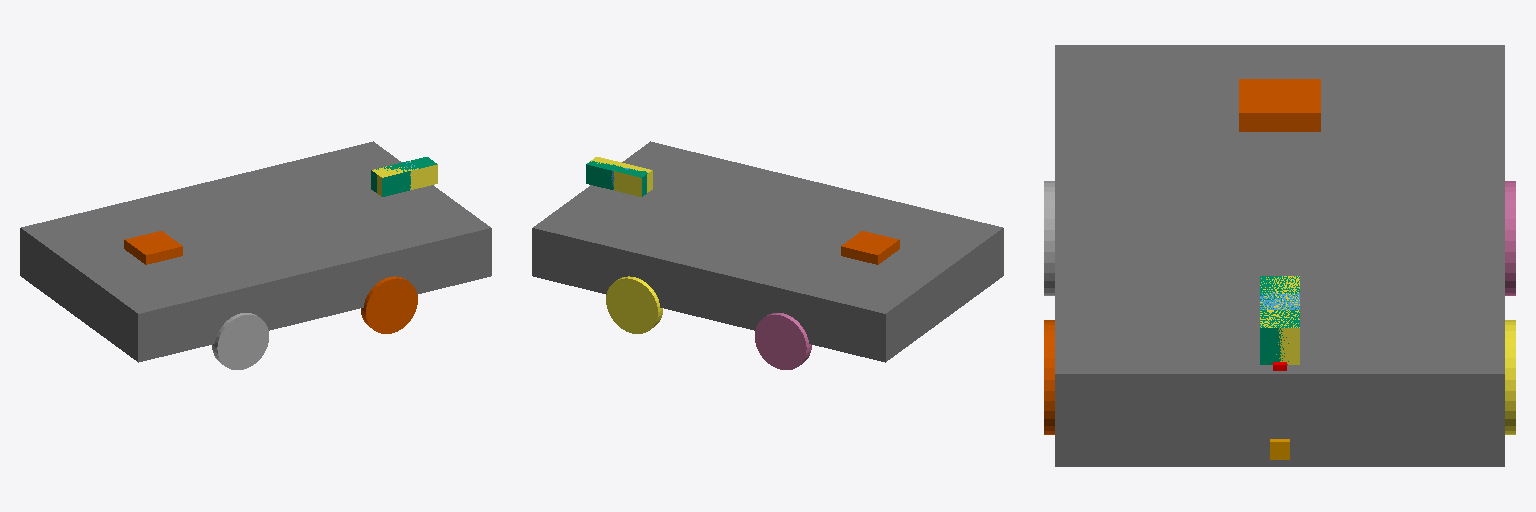
URDF robot description (hamma_bot):
<?xml version="1.0"?>
  <robot name="hamma_bot"
  xmlns:xacro="http://ros.org/wiki/xacro">


  <link name="base_link">  
    <visual>
      <origin xyz="0 0 0" rpy="0 0 0"/>
      <geometry>
        <box size="3.8 2.2 0.5"/>
      </geometry>
      <material name="gray">
        <color rgba="0.5 0.5 0.5 1"/>
      </material>
    </visual>
    <collision>
      <origin xyz="0 0 0" rpy="0 0 0"/>
      <geometry>
        <box size="3.8 2.2 0.5"/>
      </geometry>
    </collision>
    <inertial>
      <mass value="10"/>
      <inertia ixx="1" iyy="1" izz="1" ixy="0" ixz="0" iyz="0"/>
    </inertial>
  </link>


<joint name="base_footprint_joint" type="fixed">
  <parent link="base_link"/>
  <child link="base_footprint"/>
  <origin xyz="0 0 -0.53" rpy="0 0 0"/>
</joint>

<link name="base_footprint">
</link>


  <!-- FRONT LEFT steering -->
  <link name="steer_link_fl">
    <inertial>
      <origin xyz="0 0 0" rpy="0 0 0"/>
      <mass value="0.1"/>
      <inertia ixx="0.0001" ixy="0.0" ixz="0.0" iyy="0.0001" iyz="0.0" izz="0.0001"/>
    </inertial>
  </link>
  
  <joint name="front_left_steering_joint" type="revolute">
    <parent link="base_link"/>
    <child link="steer_link_fl"/>
    <origin xyz="0.8 1.1 -0.28" rpy="0 0 0"/>
    <axis xyz="0 0 1"/>
    <limit lower="-0.6" upper="0.6" effort="10" velocity="1"/>
  </joint>

  <link name="wheel_fl">
    <visual>
      <geometry>
        <cylinder radius="0.28" length="0.1"/>
      </geometry>
    </visual>
    <collision>
      <geometry>
        <cylinder radius="0.28" length="0.1"/>
      </geometry>
    </collision>
    <inertial>
      <mass value="1"/>
      <inertia ixx="0.1" iyy="0.1" izz="0.1" ixy="0" ixz="0" iyz="0"/>
    </inertial>
  </link>

  <joint name="front_left_wheel_joint" type="continuous">
    <parent link="steer_link_fl"/>
    <child link="wheel_fl"/>
    <origin xyz="0 0 0" rpy="1.5708 0 0"/>
    <axis xyz="0 0 -1"/>
  </joint>

  <!-- FRONT RIGHT steering -->
  <link name="steer_link_fr">
    <inertial>
    <origin xyz="0 0 0" rpy="0 0 0"/>
    <mass value="0.1"/>
    <inertia
      ixx="0.0001" ixy="0.0" ixz="0.0"
      iyy="0.0001" iyz="0.0"
      izz="0.0001"/>
    </inertial>
  </link>

  <joint name="front_right_steering_joint" type="revolute">
    <parent link="base_link"/>
    <child link="steer_link_fr"/>
    <origin xyz="0.8 -1.1 -0.28" rpy="0 0 0"/>
    <axis xyz="0 0 1"/>
    <limit lower="-0.6" upper="0.6" effort="10" velocity="1"/>
  </joint>

  <link name="wheel_fr">
    <visual>
      <geometry>
        <cylinder radius="0.28" length="0.1"/>
      </geometry>
    </visual>
    <collision>
      <geometry>
        <cylinder radius="0.28" length="0.1"/>
      </geometry>
    </collision>
    <inertial>
      <mass value="1"/>
      <inertia ixx="0.1" iyy="0.1" izz="0.1" ixy="0" ixz="0" iyz="0"/>
    </inertial>
  </link>

  <joint name="front_right_wheel_joint" type="continuous">
    <parent link="steer_link_fr"/>
    <child link="wheel_fr"/>
    <origin xyz="0 0 0" rpy="1.5708 0 0"/>
    <axis xyz="0 0 -1"/>
  </joint>

  <!-- REAR LEFT -->
  <link name="wheel_rl">
    <visual>
      <geometry>
        <cylinder radius="0.28" length="0.1"/>
      </geometry>
    </visual>
    <collision>
      <geometry>
        <cylinder radius="0.28" length="0.1"/>
      </geometry>
    </collision>
    <inertial>
      <mass value="1"/>
      <inertia ixx="0.1" iyy="0.1" izz="0.1" ixy="0" ixz="0" iyz="0"/>
    </inertial>
  </link>
  
  <joint name="rear_left_wheel_joint" type="continuous">
    <parent link="base_link"/>
    <child link="wheel_rl"/>
    <origin xyz="-0.8 1.1 -0.28" rpy="1.5708 0 0"/>
    <axis xyz="0 0 -1"/>
  </joint>


  <!-- REAR RIGHT -->
  <link name="wheel_rr">
    <visual>
      <geometry>
        <cylinder radius="0.28" length="0.1"/>
      </geometry>
    </visual>
    <collision>
      <geometry>
        <cylinder radius="0.28" length="0.1"/>
      </geometry>
    </collision>
    <inertial>
      <mass value="1"/>
      <inertia ixx="0.1" iyy="0.1" izz="0.1" ixy="0" ixz="0" iyz="0"/>
    </inertial>
  </link>

  <joint name="rear_right_wheel_joint" type="continuous">
    <parent link="base_link"/>
    <child link="wheel_rr"/>
    <origin xyz="-0.8 -1.1 -0.28" rpy="1.5708 0 0"/>
    <axis xyz="0 0 -1"/>
  </joint>

  <!-- Sensors -->

  <!-- Lidar -->

  <link name="lidar_link">
    <visual>
      <geometry>
        <box size="0.1 0.1 0.1"/>
      </geometry>
    </visual>
  </link>

  <joint name="base_link_to_lidar" type="fixed">
    <parent link="base_link"/>
    <child link="lidar_link"/>
    <origin xyz="1.88 0 -0.15" rpy="0 0 0"/>
  </joint>

  <!-- Camera Frame -->

  <link name="camera_frame">
    <visual>
      <geometry>
        <box size="0.2 0.2 0.2"/>
      </geometry>
    </visual>
  </link>

  <joint name="base_link_to_camera_frame" type="fixed">
    <parent link="base_link"/>
    <child link="camera_frame"/>
    <origin xyz="1.6 0 0.4" rpy="0 0 0"/>
  </joint>

  <!-- Camera -->
  <link name="camera_link_right">
    <visual>
      <geometry>
        <box size="0.2 0.6 0.2"/>
      </geometry>
    </visual>
  </link>

  <joint name="camera_joint_right" type="fixed">
    <parent link="base_link"/>
    <child link="camera_link_right"/>
    <origin xyz="1.6 0 0.4" rpy="0 0 1.5708"/>
  </joint>

  <link name="camera_link_left">
    <visual>
      <geometry>
        <box size="0.2 0.6 0.2"/>
      </geometry>
    </visual>
  </link>

  <joint name="camera_joint_left" type="fixed">
    <parent link="base_link"/>
    <child link="camera_link_left"/>
    <origin xyz="1.6 0 0.4" rpy="0 0 -1.5708"/>
  </joint>

  <!-- Top Camera Link (front of robot, pointing forward) -->
  <link name="camera_front_link">
    <visual>
      <geometry>
        <box size="0.07 0.07 0.03"/>
      </geometry>
      <material name="red">
        <color rgba="1 0 0 1"/>
      </material>
    </visual>
  </link>

  <joint name="camera_top_joint" type="fixed">
    <parent link="base_link"/>
    <child link="camera_front_link"/>
    <origin xyz="1.9 0 0.3" rpy="0 0 0"/>
  </joint>

  <!-- IMU -->

  <link name="imu_link">
    <visual>
      <geometry>
        <box size="0.4 0.4 0.3"/>
      </geometry>
    </visual>
  </link>

  <joint name="base_link_to_imu" type="fixed">
    <parent link="base_link"/>
    <child link="imu_link"/>
    <origin xyz="-1.1 0 0.2" rpy="0 0 0"/>
  </joint>

  <!-- Gazebo Plugins -->

  <plugin name='ignition::gazebo::systems::Physics' filename='ignition-gazebo-physics-system'/>
  <plugin name='ignition::gazebo::systems::UserCommands' filename='ignition-gazebo-user-commands-system'/>
  <plugin name='ignition::gazebo::systems::SceneBroadcaster' filename='ignition-gazebo-scene-broadcaster-system'/>
  <plugin filename="ignition-gazebo-sensors-system" name="ignition::gazebo::systems::Sensors">
    <render_engine>ogre2</render_engine>
  </plugin>
    
  <gui>
    <camera name='gzclient_camera'>
      <pose>-5.73 3.76 8.10 0 1.1316 -0.4398</pose>
    </camera>
  </gui>

  <gazebo reference="camera_link_right">
    <sensor name="robot_cam_right" type="camera">
      <camera>
        <horizontal_fov>1.047</horizontal_fov>
        <image>
          <width>320</width>
          <height>240</height>
        </image>
        <clip>
          <near>0.1</near>
          <far>100</far>
        </clip>
      </camera>
      <always_on>1</always_on>
      <update_rate>30</update_rate>
      <visualize>true</visualize>
      <topic>robot_cam_right</topic>
      <enable_metrics>true</enable_metrics>
    </sensor>
  </gazebo>

  <gazebo reference="camera_link_left">
    <sensor name="robot_cam_left" type="camera">
      <camera>
        <horizontal_fov>1.047</horizontal_fov>
        <image>
          <width>320</width>
          <height>240</height>
        </image>
        <clip>
          <near>0.1</near>
          <far>100</far>
        </clip>
      </camera>
      <always_on>1</always_on>
      <update_rate>30</update_rate>
      <visualize>true</visualize>
      <topic>robot_cam_left</topic>
      <enable_metrics>true</enable_metrics>
    </sensor>
  </gazebo>





  <gazebo reference="imu_link">
    <sensor name="imu_sensor" type="imu">
      <ignition_frame_id>imu_link</ignition_frame_id>
      <plugin filename="ignition-gazebo-imu-system" name="ignition::gazebo::systems::Imu">
      </plugin>

      <topic>imu</topic>
      <always_on>true</always_on>
      <update_rate>100</update_rate>
      <visualize>true</visualize>
      <imu>
        <angular_velocity>
          <x>
            <noise type="gaussian">
              <mean>0.0</mean>
              <stddev>2e-4</stddev>
              <bias_mean>0.0000075</bias_mean>
              <bias_stddev>0.0000008</bias_stddev>
            </noise>
          </x>
          <y>
            <noise type="gaussian">
              <mean>0.0</mean>
              <stddev>2e-4</stddev>
              <bias_mean>0.0000075</bias_mean>
              <bias_stddev>0.0000008</bias_stddev>
            </noise>
          </y>
          <z>
            <noise type="gaussian">
              <mean>0.0</mean>
              <stddev>2e-4</stddev>
              <bias_mean>0.0000075</bias_mean>
              <bias_stddev>0.0000008</bias_stddev>
            </noise>
          </z>
        </angular_velocity>
        <linear_acceleration>
          <x>
            <noise type="gaussian">
              <mean>0.0</mean>
              <stddev>1.7e-2</stddev>
              <bias_mean>0.1</bias_mean>
              <bias_stddev>0.001</bias_stddev>
            </noise>
          </x>
          <y>
            <noise type="gaussian">
              <mean>0.0</mean>
              <stddev>1.7e-2</stddev>
              <bias_mean>0.1</bias_mean>
              <bias_stddev>0.001</bias_stddev>
            </noise>
          </y>
          <z>
            <noise type="gaussian">
              <mean>0.0</mean>
              <stddev>1.7e-2</stddev>
              <bias_mean>0.1</bias_mean>
              <bias_stddev>0.001</bias_stddev>
            </noise>
          </z>
        </linear_acceleration>
      </imu>
    </sensor>
  </gazebo>


  <ros2_control name="IgnitionSystem" type="system">
  <hardware>
    <plugin>ign_ros2_control/IgnitionSystem</plugin>
  </hardware>

  <!-- Rear driving wheels -->
  <joint name="rear_left_wheel_joint">
    <command_interface name="velocity">
      <param name="min">-100.0</param>
      <param name="max">100.0</param>
    </command_interface>
    <state_interface name="velocity"/>
    <state_interface name="position"/>
  </joint>

  <joint name="rear_right_wheel_joint">
    <command_interface name="velocity">
      <param name="min">-100.0</param>
      <param name="max">100.0</param>
    </command_interface>
    <state_interface name="velocity"/>
    <state_interface name="position"/>
  </joint>

  <!-- Front steering joints -->
  <joint name="front_left_steering_joint">
    <command_interface name="position"/>
    <state_interface name="position"/>
    <state_interface name="velocity"/>
  </joint>

  <joint name="front_right_steering_joint">
    <command_interface name="position"/>
    <state_interface name="position"/>
    <state_interface name="velocity"/>
  </joint>

  <joint name="front_left_wheel_joint">
    <state_interface name="velocity"/>
    <state_interface name="position"/>
  </joint>

  <joint name="front_right_wheel_joint">
    <state_interface name="velocity"/>
    <state_interface name="position"/>
  </joint>

</ros2_control>

  <gazebo>
    <plugin filename="ign_ros2_control-system" name="ign_ros2_control::IgnitionROS2ControlPlugin">
      <parameters>[local-path]/Desktop/naor/study/Thesis/src/hamma_bot/config/ackermann_controller.yaml</parameters>
    </plugin>
  </gazebo>


  <gazebo reference="lidar_link">
    <sensor name="lidar" type="gpu_lidar">
      <ignition_frame_id>lidar_link</ignition_frame_id>
      <topic>scan</topic>
      <always_on>true</always_on>
      <visualize>true</visualize>
      <update_rate>2</update_rate>
      <ray>
        <scan>
          <horizontal>
            <samples>180</samples>
            <resolution>1.000000</resolution>
            <min_angle>-0.75</min_angle>
            <max_angle>0.75</max_angle>
          </horizontal>
        </scan>
        <range>
          <min>0.120000</min>
          <max>3.5</max>
          <resolution>0.015000</resolution>
        </range>
        <noise>
          <type>gaussian</type>
          <mean>0.0</mean>
          <stddev>0.01</stddev>
        </noise>
      </ray>
    </sensor>
  </gazebo>
</robot>

--- Facts derived from the render (not from the file) ---
The picture shows the robot from 3 angles, left to right: view 1: azimuth 30°, elevation 25°; view 2: azimuth 150°, elevation 25°; view 3: azimuth 270°, elevation 25°; orthographic projection.
Model hamma_bot with 14 links and 13 joints (2 revolute, 4 continuous, 7 fixed), rooted at base_link, posed every joint at zero.
Visible links, largest first — view 1: base_link, wheel_fr, wheel_rr, imu_link, camera_link_right, camera_link_left; view 2: base_link, wheel_fl, wheel_rl, imu_link, camera_link_right, camera_link_left; view 3: base_link, imu_link, camera_link_right, camera_link_left, wheel_fl, wheel_fr, wheel_rl, wheel_rr.
Boxes of the visible links, x1,y1,x2,y2 form: base_link: (20, 141, 491, 362); wheel_fr: (361, 276, 417, 333); wheel_rr: (212, 313, 268, 369); imu_link: (124, 231, 182, 264); camera_link_right: (371, 157, 436, 196); camera_link_left: (372, 161, 437, 196); base_link: (532, 141, 1003, 362); wheel_fl: (606, 276, 662, 333); wheel_rl: (755, 313, 811, 369); imu_link: (841, 231, 899, 264); camera_link_right: (586, 161, 647, 196); camera_link_left: (591, 157, 652, 196); base_link: (1055, 45, 1504, 466); imu_link: (1239, 79, 1320, 131); camera_link_right: (1260, 276, 1299, 364); camera_link_left: (1260, 276, 1299, 364); wheel_fl: (1505, 320, 1515, 434); wheel_fr: (1044, 320, 1054, 434); wheel_rl: (1505, 181, 1515, 295); wheel_rr: (1044, 181, 1054, 295).
Size in the robot's own frame: 3.83 by 2.3 by 1.06 metres.
Geometry: primitives only (box / cylinder / sphere), no mesh files.
